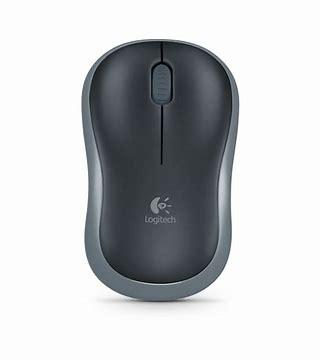computer mouse: (80, 39, 240, 303)
